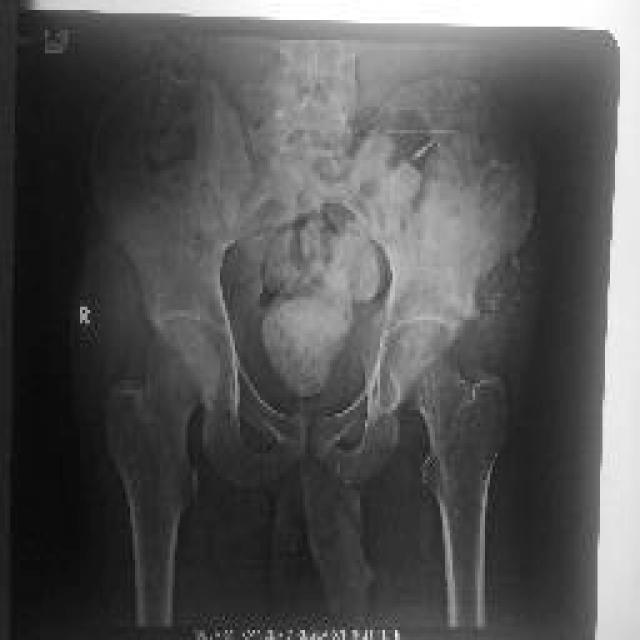bone-cancer: (355, 122, 531, 338)
